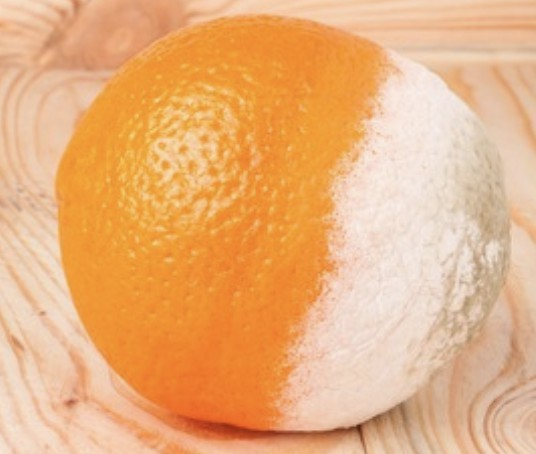rotten_orange: (58, 17, 508, 430)
